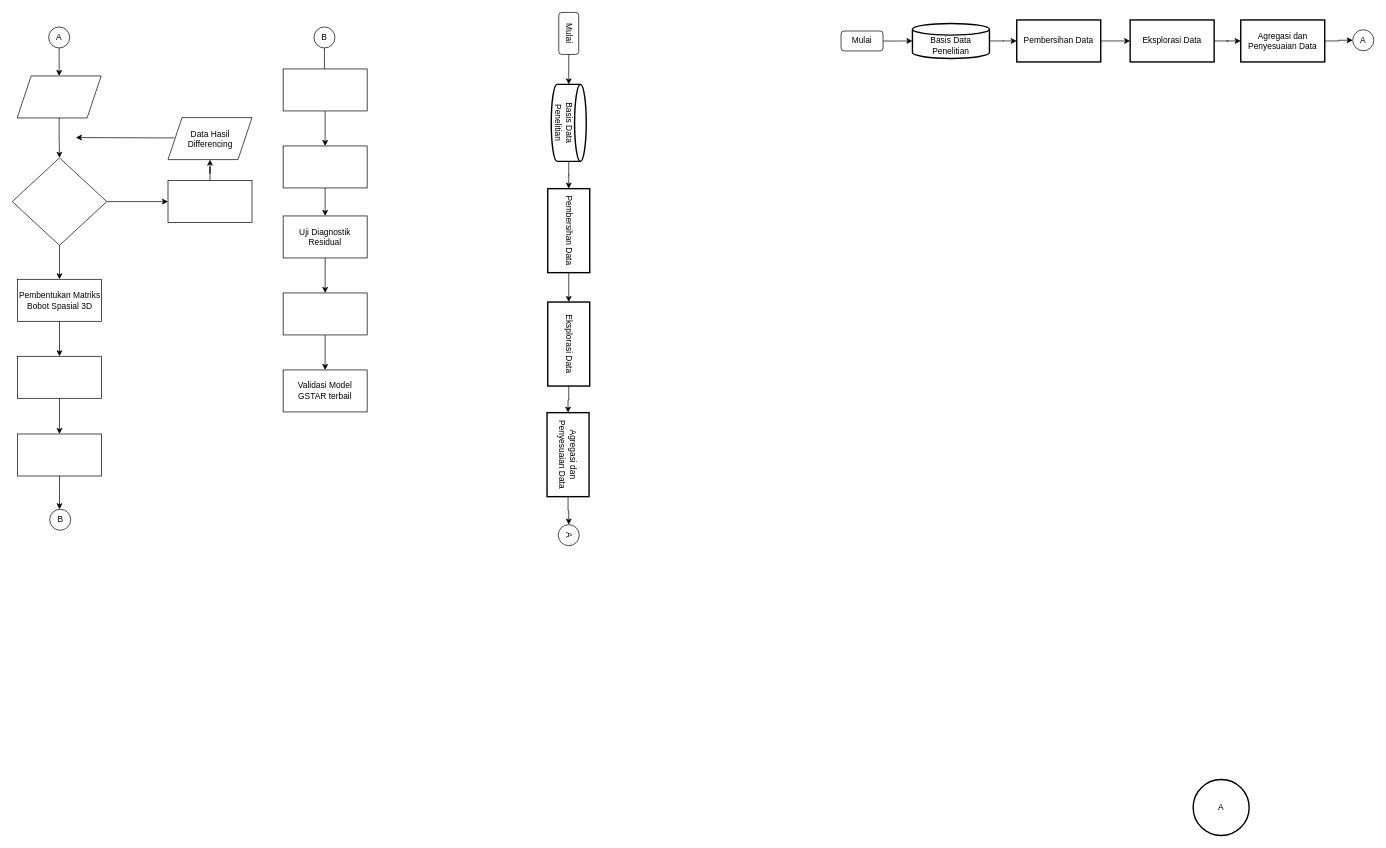
Some shapes in this 1386 by 848 pixel diagram are drawn without their labels. The box of each missing label's shape, as (x1, y1, x2, y2) in pixels:
Differencing Data: (167, 180, 252, 223)
Estimasi dan Uji Parameter: (282, 68, 367, 111)
Hitung Residual: (282, 145, 367, 188)
Identifikasi Model GSTAR Bivariat: (17, 433, 102, 476)
Kestasioneran Data dalam Rataan: (12, 157, 107, 245)
Pemilihan Model GSTAR Bivariat Terbaik: (282, 292, 367, 335)
Pengumpulan Data: (16, 75, 101, 118)
Plot STACF dan STPACF: (17, 356, 102, 398)
